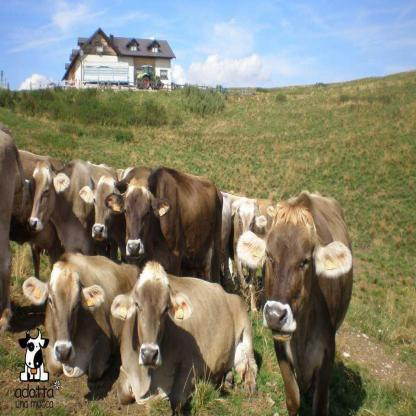cow: (236, 188, 354, 416), (112, 261, 258, 416), (22, 251, 143, 383), (103, 164, 224, 283), (27, 159, 118, 253), (0, 126, 29, 334), (78, 166, 136, 264), (233, 199, 262, 315)
